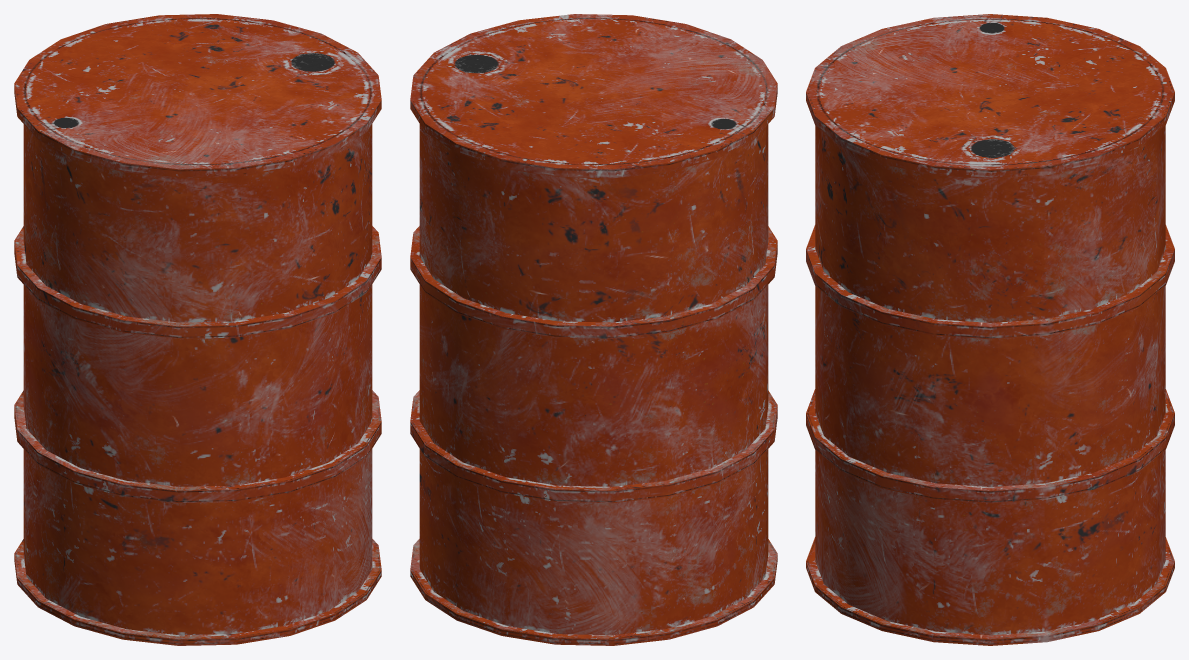
Rendered from Oildrum_01a_snaps005.fbx.
The picture shows the model from 3 angles, left to right: view 1: azimuth 30°, elevation 25°; view 2: azimuth 150°, elevation 25°; view 3: azimuth 270°, elevation 25°; orthographic projection.
Visible parts, largest first — view 1: OilDrum_01a_snaps005_LOD0; view 2: OilDrum_01a_snaps005_LOD0; view 3: OilDrum_01a_snaps005_LOD0.
Boxes of the visible parts, bbox=[...] form: OilDrum_01a_snaps005_LOD0: bbox=[14, 14, 381, 645]; OilDrum_01a_snaps005_LOD0: bbox=[410, 14, 777, 645]; OilDrum_01a_snaps005_LOD0: bbox=[806, 14, 1174, 645].
Size of what is drawn, in the model's own units: 61.1 by 87 by 61.1.
